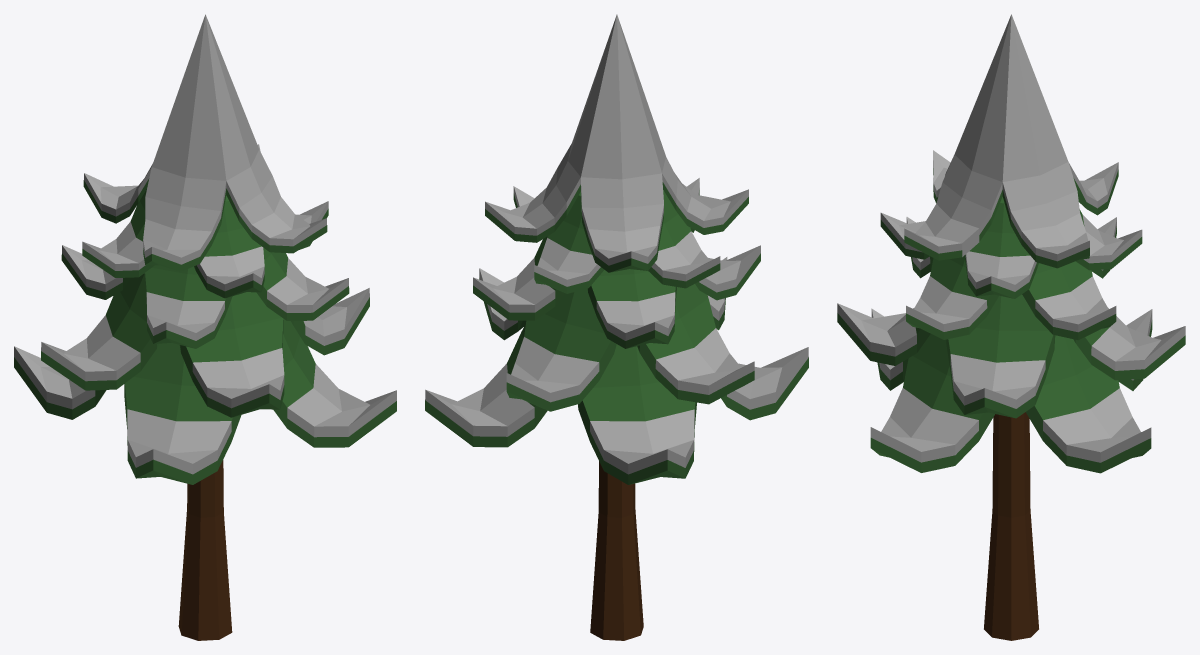
File: PineTreeTall_Snow.obj
3 views of the same model, side by side, from view 1: azimuth 30°, elevation 25°; view 2: azimuth 150°, elevation 25°; view 3: azimuth 270°, elevation 25° (orthographic).
Visible parts, largest first — view 1: PineTreeTall_Snow_Cylinder.002; view 2: PineTreeTall_Snow_Cylinder.002; view 3: PineTreeTall_Snow_Cylinder.002.
Part boxes in pixels (x1,y1,x2,y2): PineTreeTall_Snow_Cylinder.002: (14, 14, 396, 640); PineTreeTall_Snow_Cylinder.002: (425, 14, 808, 640); PineTreeTall_Snow_Cylinder.002: (837, 14, 1185, 640).
Size of the model in its own units: 3.56 by 6.95 by 3.56.
